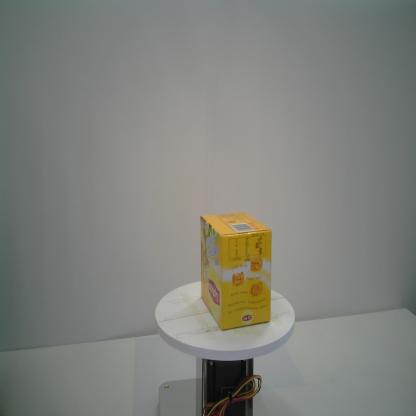Instant Drink: (200, 211, 272, 331)
